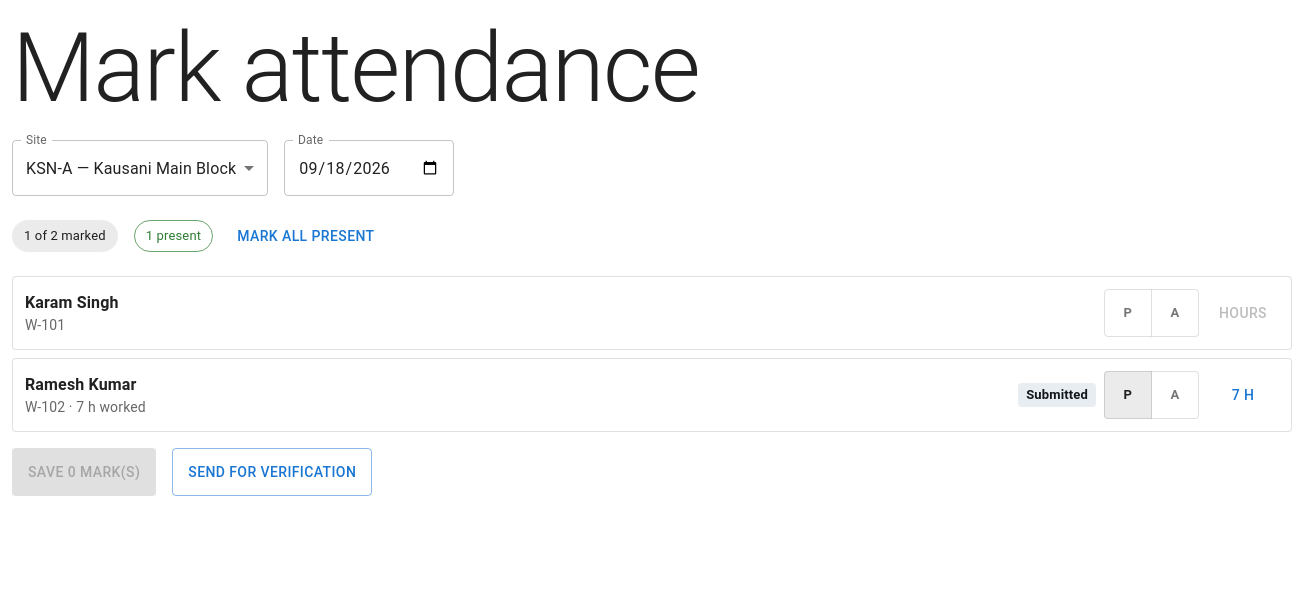
MarkAttendancePage › surfaces a per-row rejection instead of failing the whole batch silently
This screenshot has width=1292, height=611.
expect the text "Karam Singh" is shown: met, box [25,293,119,312]
Click the button "P" in the row of "Karam Singh" at x=1128, y=313, box [1104,289,1152,337]
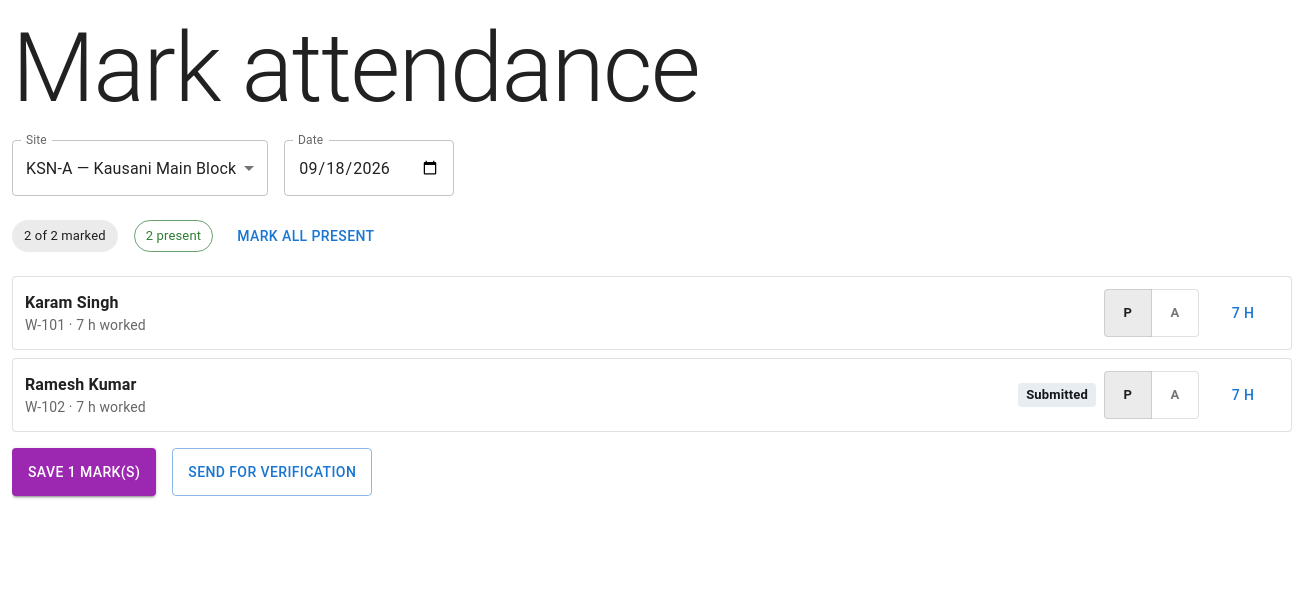
Click the button "Save 1 mark(s)" at x=84, y=472, box [12,448,156,496]
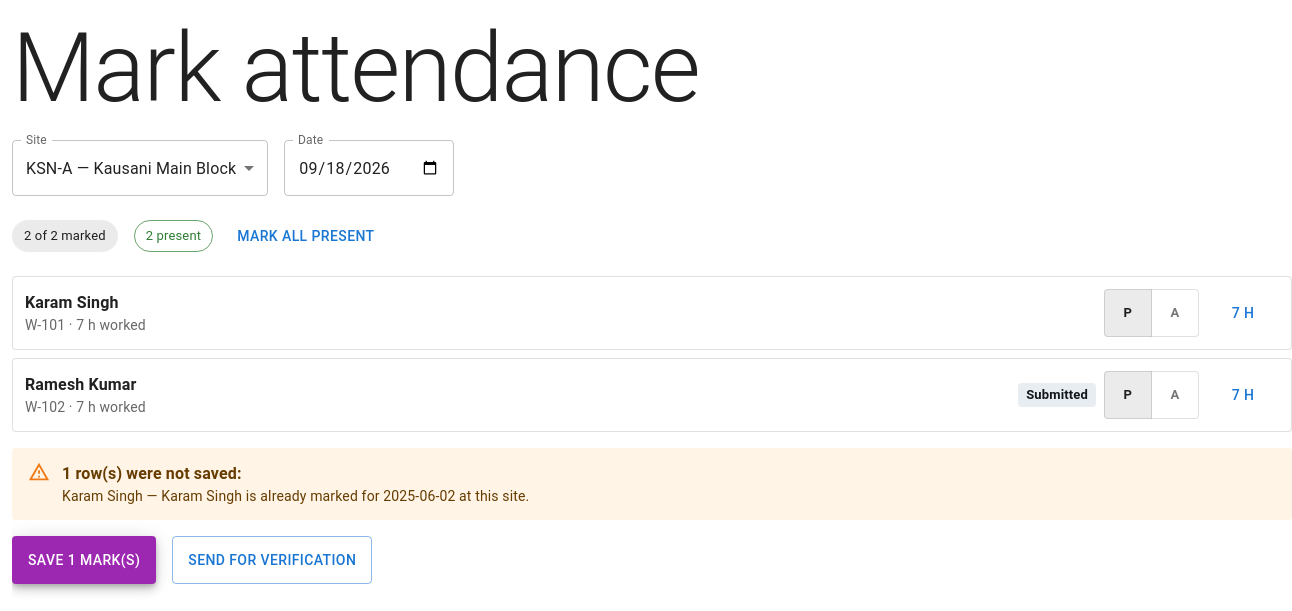
expect the text "1 row(s) were not saved:" is shown: met, box [62,464,242,483]
expect the text "already marked for 2025-06-02" is shown: met, box [161,488,529,504]
